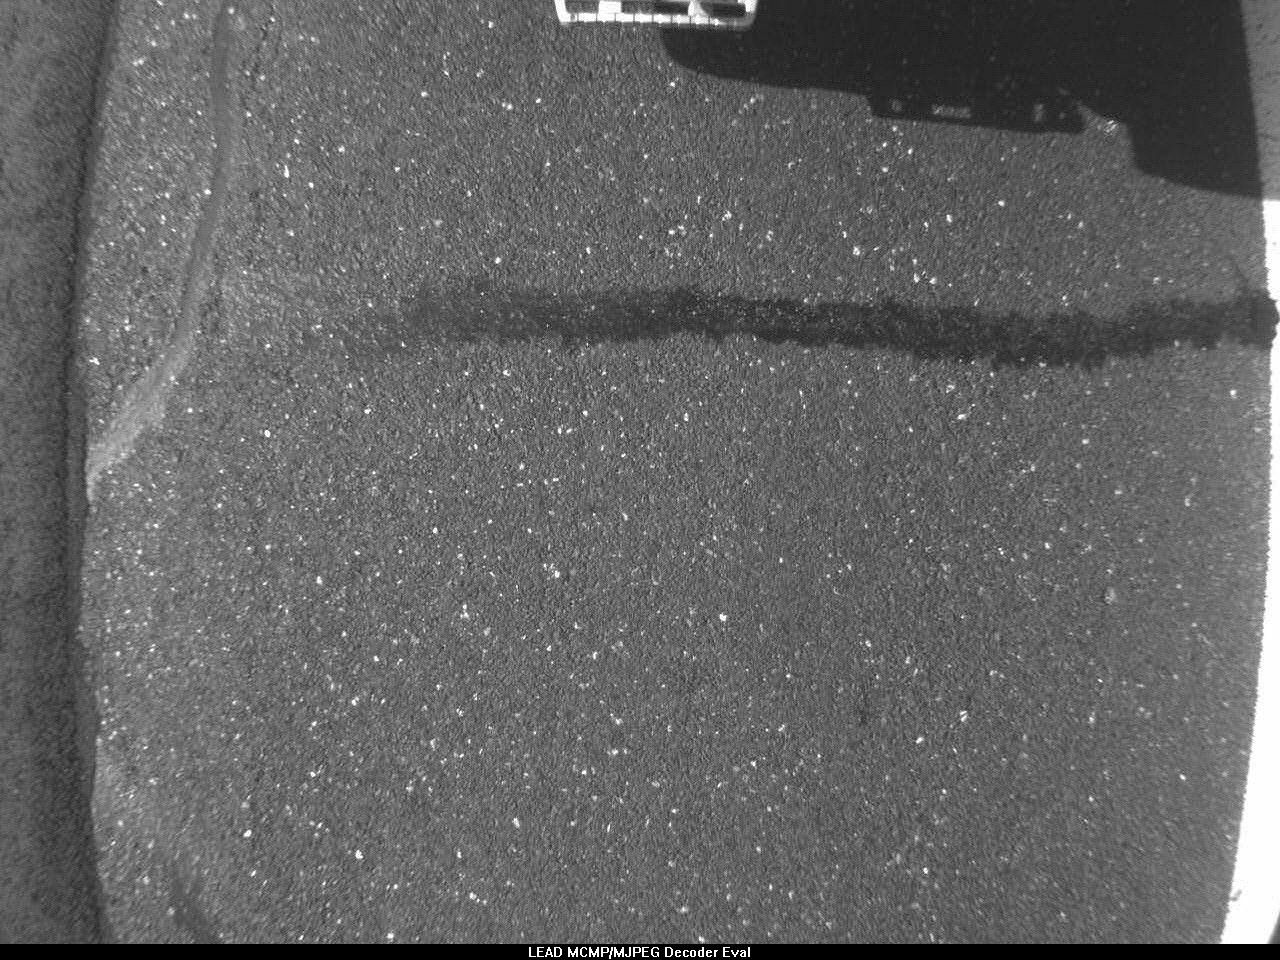sealed: (334, 266, 1273, 382)
